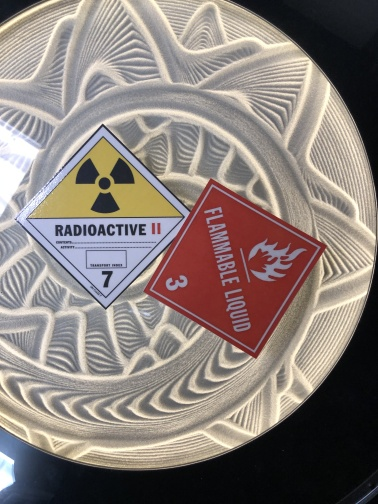FlammableLiquid: (143, 176, 327, 361)
Radioactive: (16, 125, 192, 309)
